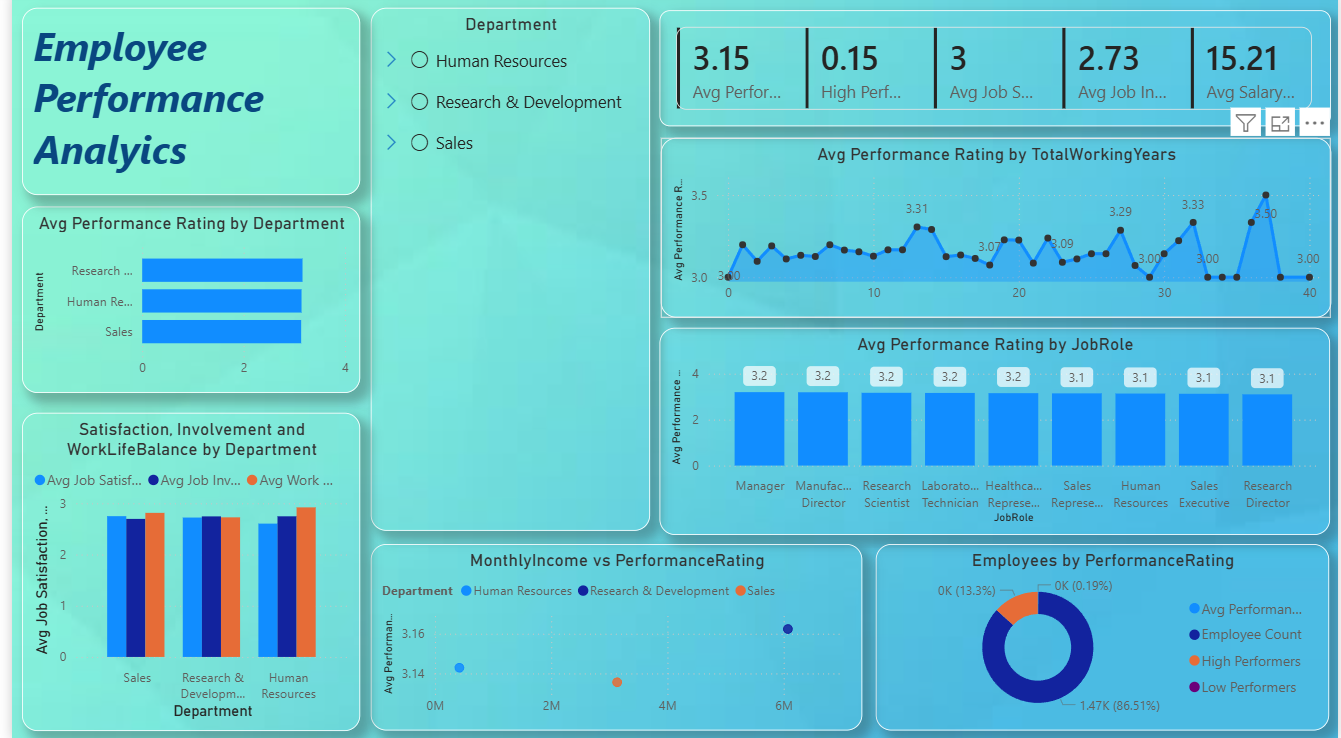

Layout of this report page (visuals, bound fields, positions):
{"tool":"powerbi","page":{"name":"Page 2","canvas":[1280,720],"ordinal":1},"visuals":[{"type":"listSlicer","fields":{"Values":["HR_Analytics.Department","HR_Analytics.JobRole","HR_Analytics.Gender","HR_Analytics.AgeGroup","HR_Analytics.Attrition"]},"box":[346.2,13.6,269.9,505.2],"z":0},{"type":"cardVisual","fields":{"Data":["HR_Analytics.Avg Performance Rating","HR_Analytics.High Performer %","HR_Analytics.Avg Job Satisfaction","HR_Analytics.Avg Job Involvement","HR_Analytics.Avg Salary Hike %"]},"box":[624.7,16,648.1,112.1],"z":1},{"type":"barChart","fields":{"Y":["HR_Analytics.Avg Performance Rating"],"Category":["HR_Analytics.Department"]},"box":[9.9,204.5,326.5,179.9],"z":2},{"type":"lineChart","fields":{"Y":["HR_Analytics.Avg Performance Rating"],"Category":["HR_Analytics.TotalWorkingYears"]},"box":[626,139.2,646.9,173.7],"z":3},{"type":"lineStackedColumnComboChart","fields":{"Category":["HR_Analytics.JobRole"],"Y":["HR_Analytics.Avg Performance Rating"]},"box":[624.7,321.6,646.9,199.6],"z":4},{"type":"donutChart","title":"Employees by PerformanceRating","fields":{"Y":["HR_Analytics.Avg Performance Rating","HR_Analytics.Employee Count","HR_Analytics.High Performers","HR_Analytics.Low Performers"]},"box":[834.2,531.1,437.4,179.9],"z":5},{"type":"scatterChart","title":"MonthlyIncome vs PerformanceRating","fields":{"X":["Sum(HR_Analytics.MonthlyIncome)"],"Series":["HR_Analytics.Department"],"Y":["HR_Analytics.Avg Performance Rating"]},"box":[346.2,531.1,474.4,179.9],"z":6},{"type":"clusteredColumnChart","title":"Satisfaction, Involvement and WorkLifeBalance by Department","fields":{"Y":["HR_Analytics.Avg Job Satisfaction","HR_Analytics.Avg Job Involvement","HR_Analytics.Avg Work Life Balance"],"Category":["HR_Analytics.Department"]},"box":[9.9,404.2,326.5,306.8],"z":7},{"type":"textbox","box":[9.9,13.6,326.5,181.1],"z":8}]}

Visuals, with their boxes in screenshot pixels (x1, y1, x2, y2), scaled from the page's 1280x720 canvas onto the 1341x738 screenshot:
listSlicer - HR_Analytics.Department x HR_Analytics.JobRole: region(363, 14, 645, 532)
cardVisual - HR_Analytics.Avg Performance Rating x HR_Analytics.High Performer %: region(654, 16, 1333, 131)
barChart - HR_Analytics.Avg Performance Rating x HR_Analytics.Department: region(10, 210, 352, 394)
lineChart - HR_Analytics.Avg Performance Rating x HR_Analytics.TotalWorkingYears: region(656, 143, 1334, 321)
lineStackedColumnComboChart - HR_Analytics.JobRole x HR_Analytics.Avg Performance Rating: region(654, 330, 1332, 534)
"Employees by PerformanceRating" donutChart: region(874, 544, 1332, 729)
"MonthlyIncome vs PerformanceRating" scatterChart: region(363, 544, 860, 729)
"Satisfaction, Involvement and WorkLifeBalance by Department" clusteredColumnChart: region(10, 414, 352, 729)
textbox: region(10, 14, 352, 200)
